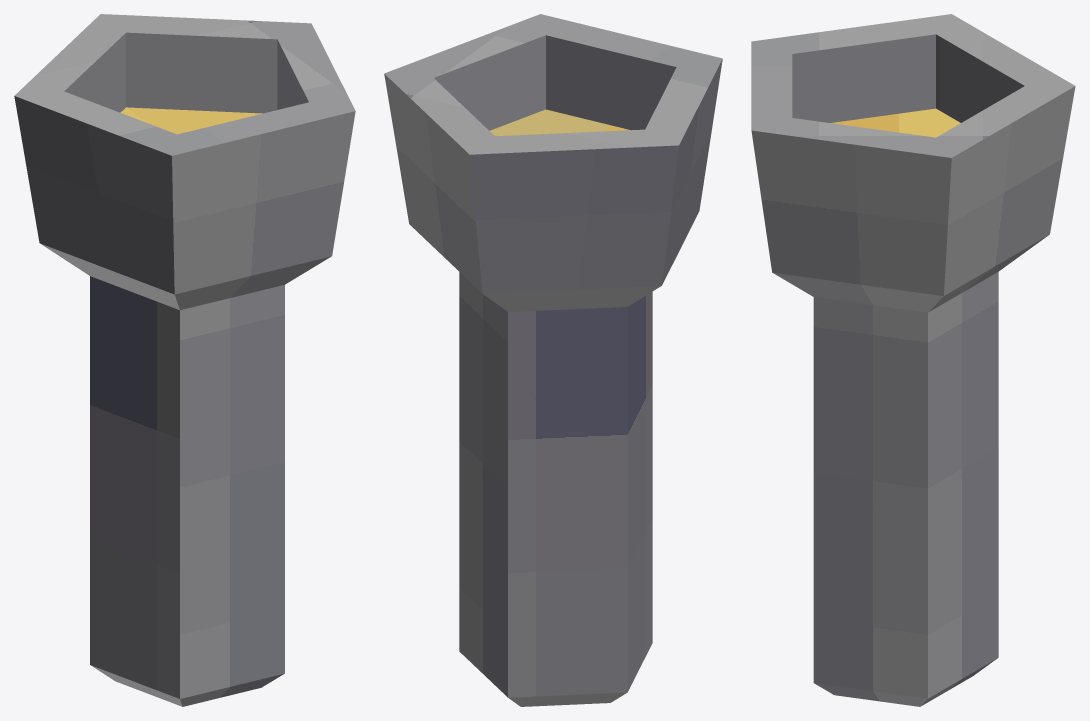
The model's file is notreal-torch.fbx.
3 renders of one model, left to right at view 1: azimuth 30°, elevation 25°; view 2: azimuth 150°, elevation 25°; view 3: azimuth 270°, elevation 25°, orthographic.
Visible parts, largest first — view 1: Torch; view 2: Torch; view 3: Torch.
Part boxes in pixels (left/top/right/bottom): Torch: left=14, top=14, right=355, bottom=706; Torch: left=384, top=14, right=722, bottom=706; Torch: left=751, top=14, right=1075, bottom=706.
Size of the model in its own units: 19.79 by 39.75 by 20.8.
